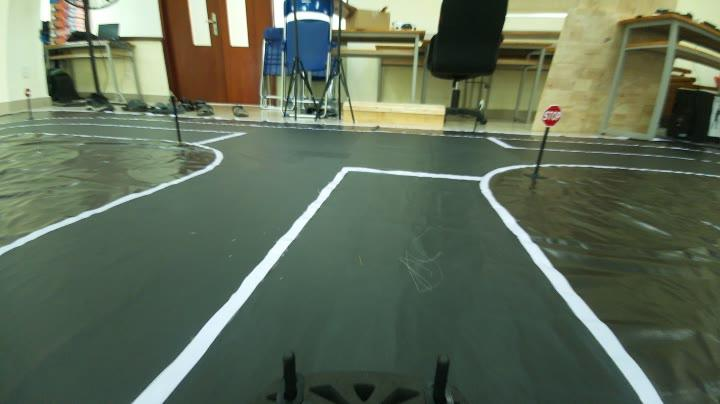stop: (540, 102, 563, 128)
